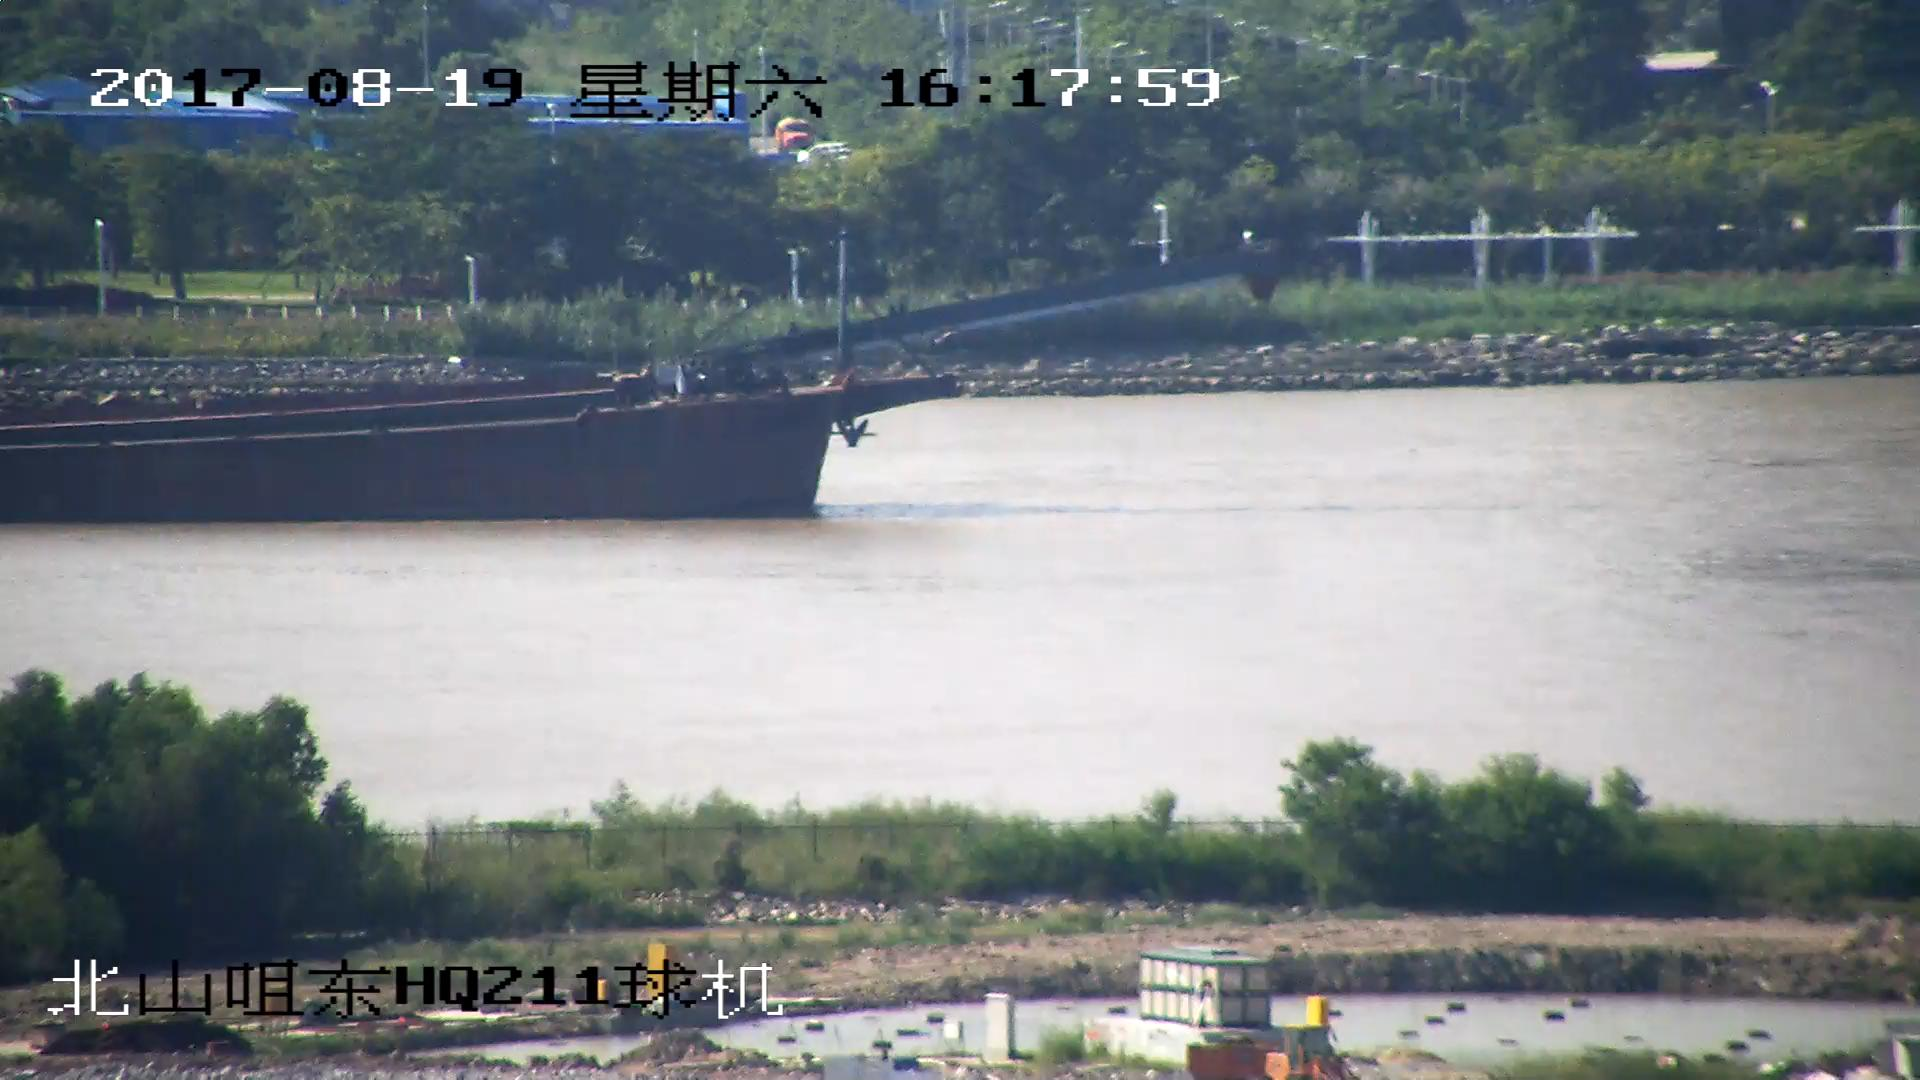bulk cargo carrier: (1, 235, 1258, 525)
